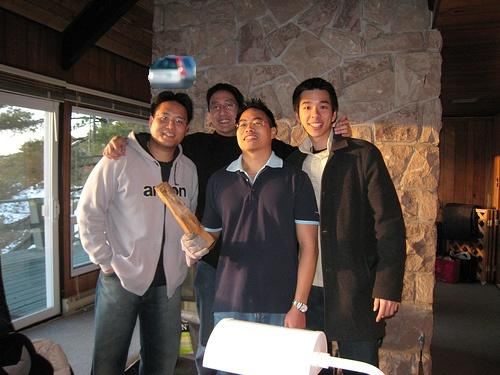tampered: (149, 56, 196, 89)
